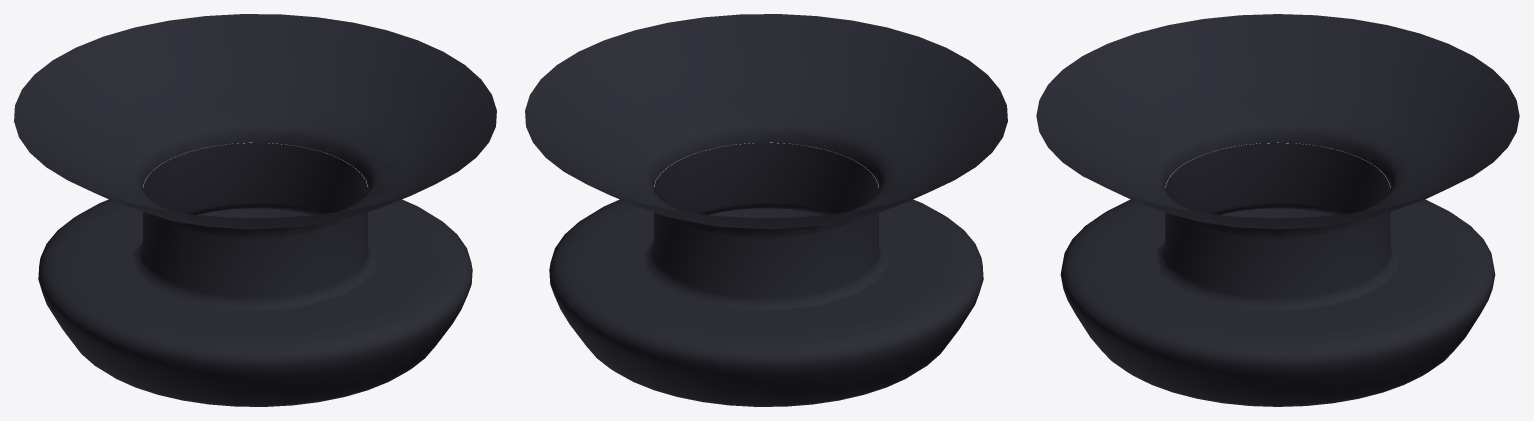
File: stick_r.obj
3 views of the same model, side by side, from view 1: azimuth 30°, elevation 25°; view 2: azimuth 150°, elevation 25°; view 3: azimuth 270°, elevation 25° (orthographic).
Parts seen in each view (by area): view 1: stick_r; view 2: stick_r; view 3: stick_r.
Part boxes in pixels (x1=…): stick_r: x1=14, y1=14, x2=496, y2=406; stick_r: x1=525, y1=14, x2=1007, y2=406; stick_r: x1=1036, y1=14, x2=1519, y2=406.
Size of the model in its own units: 0.2601 by 0.1295 by 0.2601.
